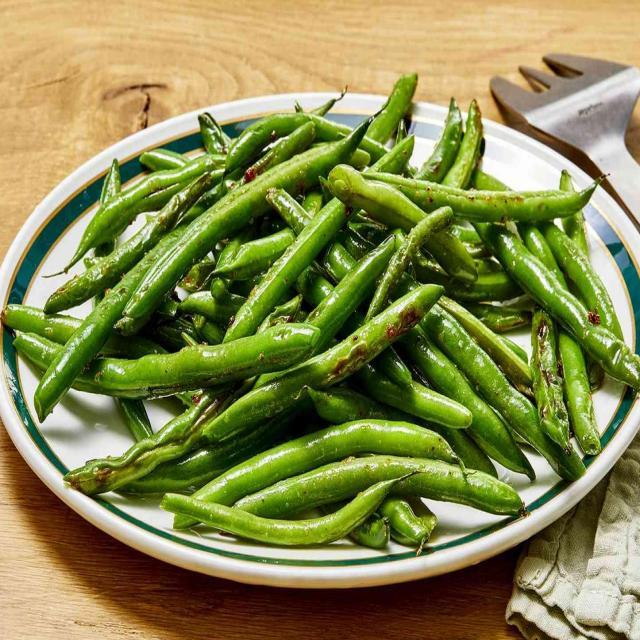Beans: (0, 64, 639, 552)
